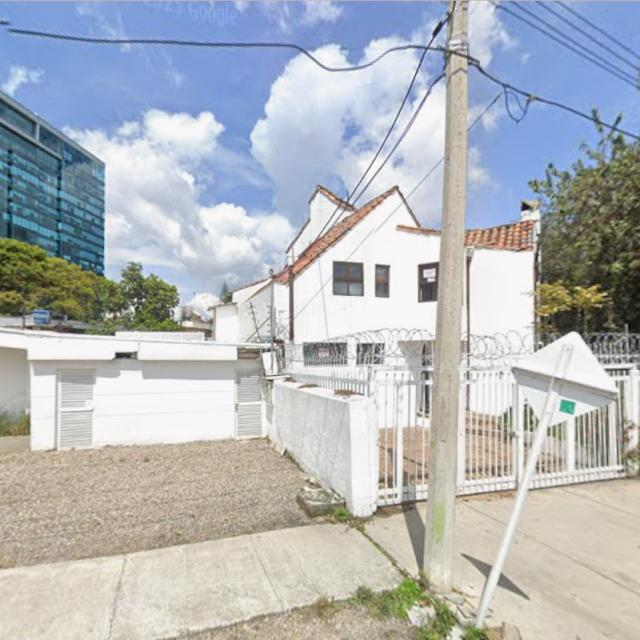fachada: (215, 187, 440, 344), (0, 329, 264, 449), (0, 92, 104, 274)
poste: (475, 345, 573, 628), (423, 0, 467, 593), (270, 270, 276, 374), (289, 250, 294, 342)
